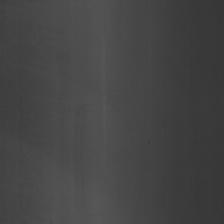inclusion: (74, 103, 85, 122), (146, 137, 152, 149)
